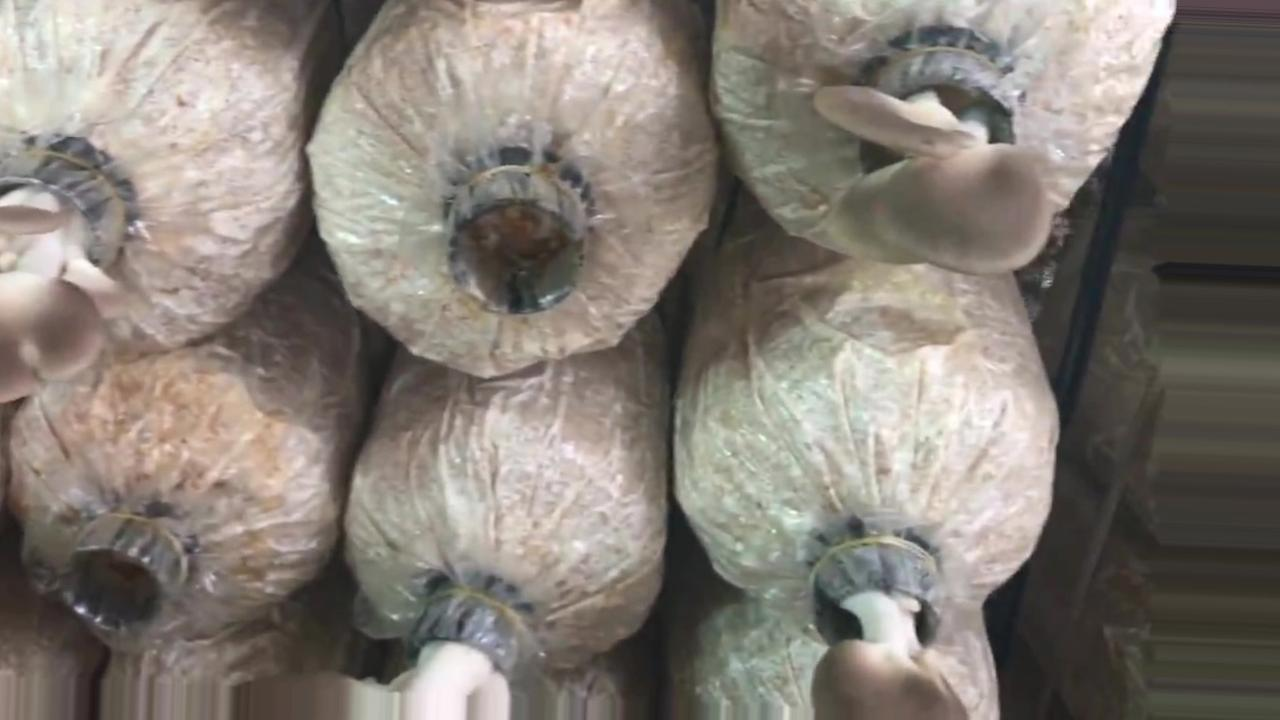nam: (816, 50, 1050, 275), (1, 150, 118, 396), (814, 541, 967, 720)
